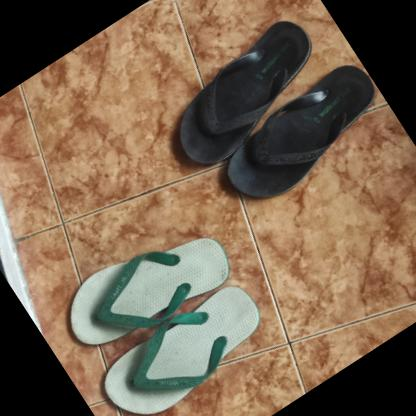Black Swallow B: (188, 52, 398, 227), (150, 9, 340, 175)
Green Swallow: (48, 203, 240, 367), (87, 271, 279, 416)
